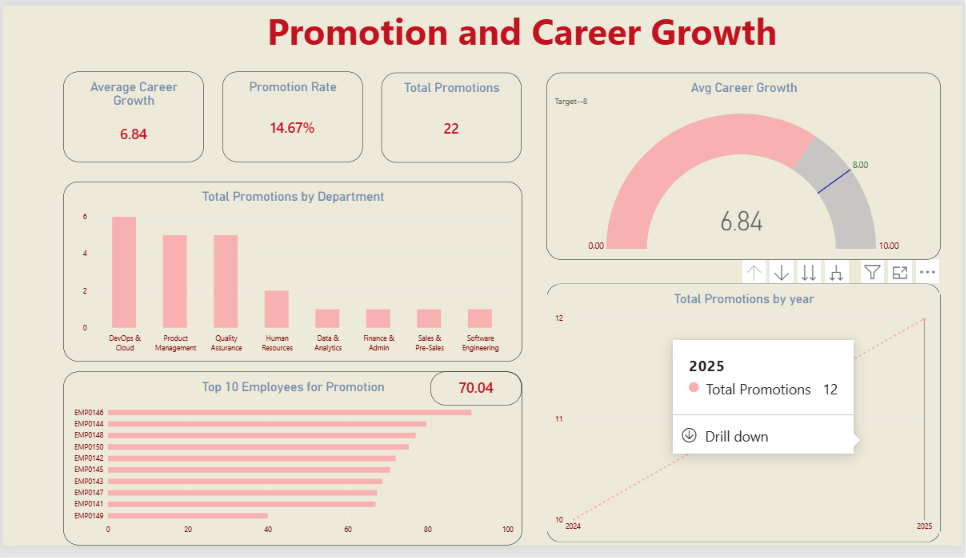

What the dashboard file says about the page in this screenshot:
{"tool":"powerbi","page":{"name":"Promotion and career Growth","canvas":[1920,1080],"ordinal":10},"visuals":[{"type":"card","title":"Average Career Growth","fields":{"Values":["workforceretentiondb promotion_history.Avg Career Growth"]},"box":[121.2,132.1,280.5,181],"z":0},{"type":"card","title":"Promotion Rate","fields":{"Values":["workforceretentiondb promotion_history.Promotion Rate %"]},"box":[439.7,132.1,280.5,181],"z":1000},{"type":"card","title":"Total Promotions","fields":{"Values":["workforceretentiondb promotion_history.Total Promotions"]},"box":[758.2,133.9,280,180],"z":2000},{"type":"clusteredColumnChart","title":"Total Promotions by Department","fields":{"Category":["workforceretentiondb departments_master.DepartmentName"],"Y":["workforceretentiondb promotion_history.Total Promotions"]},"box":[121.2,352.9,917.5,360.1],"z":3000},{"type":"lineChart","title":"Total Promotions by year","fields":{"Category":["workforceretentiondb promotion_history.PromotionDate.Variation.Date Hierarchy.Year","workforceretentiondb promotion_history.PromotionDate.Variation.Date Hierarchy.Quarter","workforceretentiondb promotion_history.PromotionDate.Variation.Date Hierarchy.Month","workforceretentiondb promotion_history.PromotionDate.Variation.Date Hierarchy.Day"],"Y":["workforceretentiondb promotion_history.Total Promotions"]},"box":[1087.6,555.6,789,517.6],"z":4000},{"type":"gauge","fields":{"Y":["workforceretentiondb promotion_history.Avg Career Growth"]},"box":[1087.6,133.9,789,374.6],"z":5000},{"type":"barChart","title":"Top 10 Employees for Promotion","fields":{"Category":["workforceretentiondb performance_ratings.EmployeeID"],"Y":["Avg(workforceretentiondb performance_ratings.GoalsMetPercent)"]},"box":[121.2,732.9,917.5,347.5],"z":6000},{"type":"card","fields":{"Values":["Avg(workforceretentiondb performance_ratings.GoalsMetPercent)"]},"box":[856,732.9,182.8,67],"z":7000},{"type":"textbox","box":[365.6,0,1346.4,132.1],"z":8000}]}

Visuals, with their boxes in screenshot pixels (x1, y1, x2, y2), scaled from the page's 1920x1080 canvas onto the 966x558 screenshot:
"Average Career Growth" card: bbox(61, 68, 202, 162)
"Promotion Rate" card: bbox(221, 68, 362, 162)
"Total Promotions" card: bbox(381, 69, 522, 162)
"Total Promotions by Department" clusteredColumnChart: bbox(61, 182, 523, 368)
"Total Promotions by year" lineChart: bbox(547, 287, 944, 554)
gauge - workforceretentiondb promotion_history.Avg Career Growth: bbox(547, 69, 944, 263)
"Top 10 Employees for Promotion" barChart: bbox(61, 379, 523, 557)
card - Avg(workforceretentiondb performance_ratings.GoalsMetPercent): bbox(431, 379, 523, 413)
textbox: bbox(184, 0, 861, 68)
